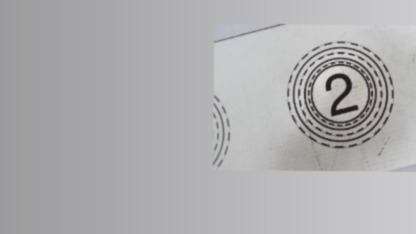2r: (285, 39, 394, 150)
